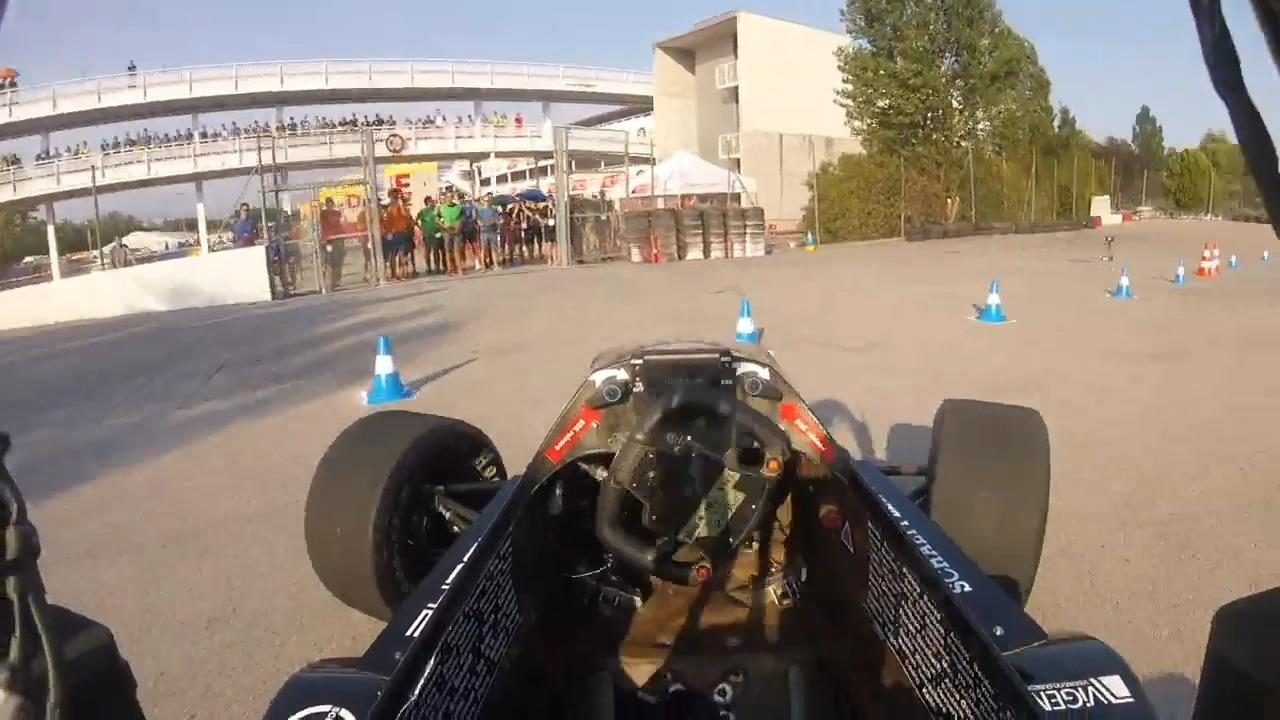blue_cone: (359, 336, 417, 403), (729, 300, 765, 359), (973, 280, 1010, 325), (1107, 266, 1137, 303), (1169, 259, 1187, 288), (1227, 254, 1240, 270), (1259, 249, 1271, 264)
large_orange_cone: (1194, 242, 1213, 279), (1210, 240, 1224, 278)
